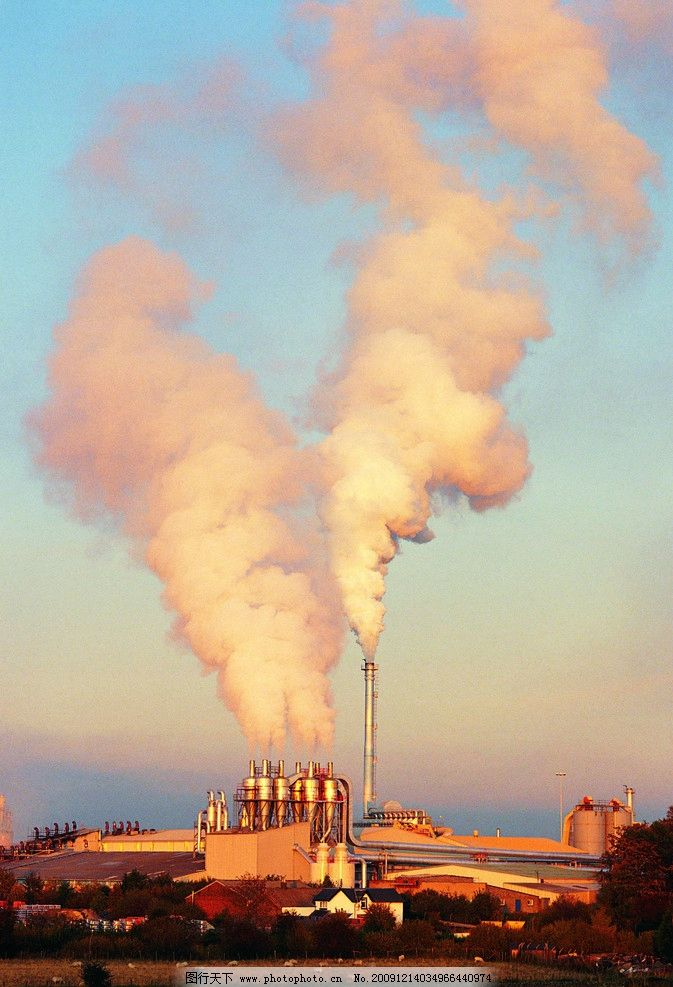dust: (40, 270, 361, 794), (311, 289, 557, 682)
